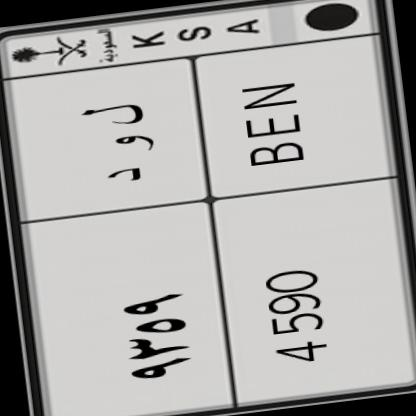english: (175, 25, 416, 413)
